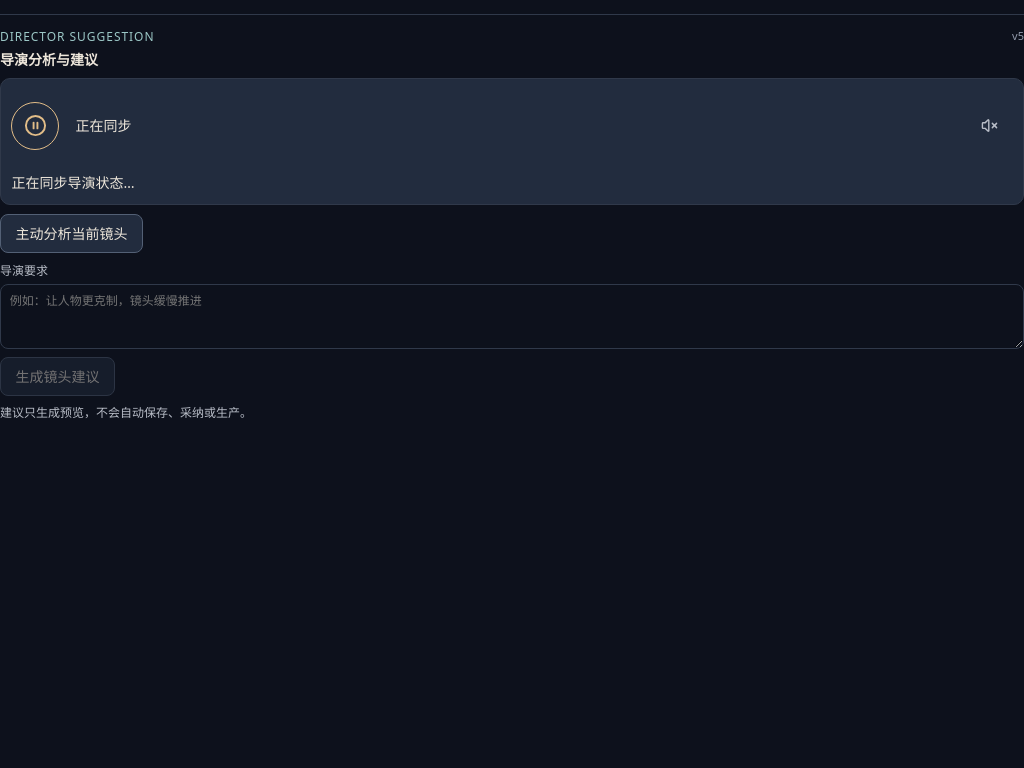
Test: ShotDirectorSuggestionPanel › makes a local preview non-applicable when polling observes a stale turn
Type "要求" into the text box labelled "导演要求". click: coordinates (512, 316)
box: [0,284,1023,349]
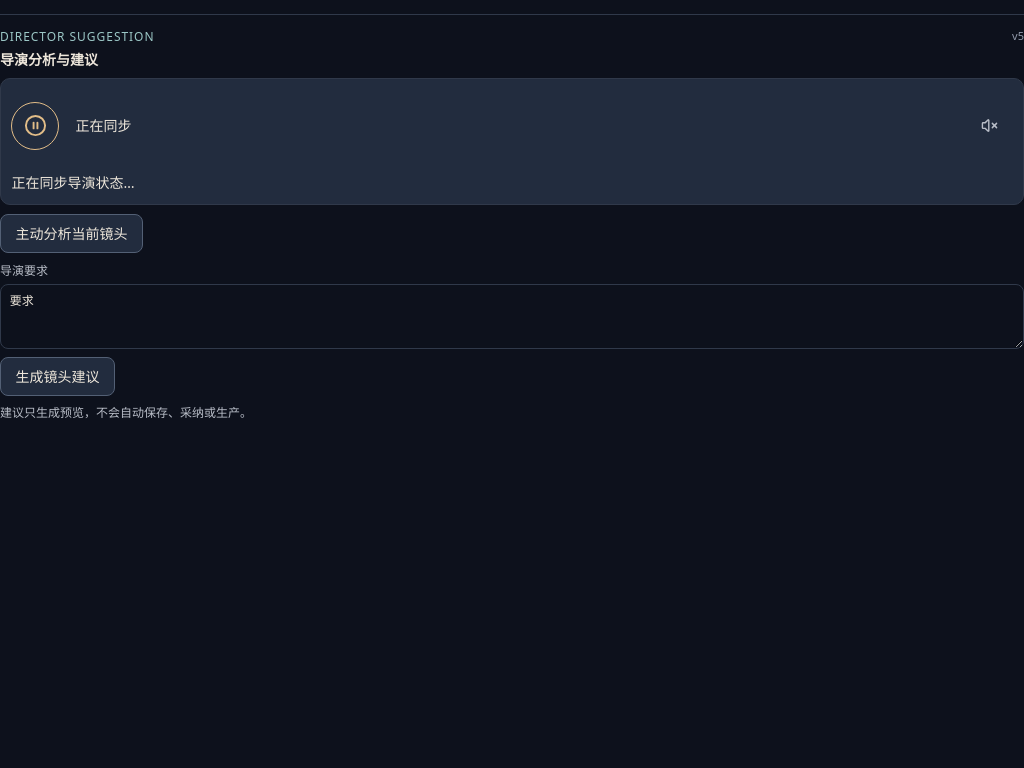
Click the button with test id "request-shot-director-suggestion". click: coordinates (57, 377)
box: [0,357,115,396]
(page scrolled)
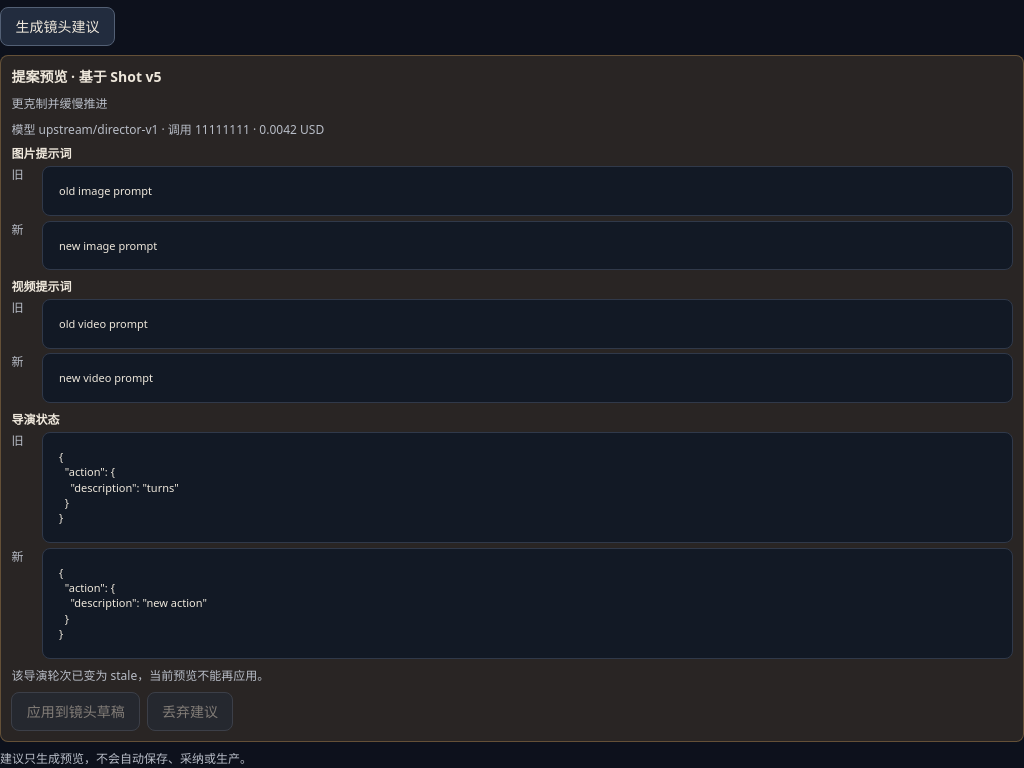
Expected: the text "该导演轮次已变为 stale，当前预览不能再应用。" is shown, [11,667,269,684]
Expected: the button with test id "apply-shot-director-suggestion" is disabled, [11,692,140,731]
Expected: the button with test id "discard-shot-director-suggestion" is disabled, [147,692,233,731]
